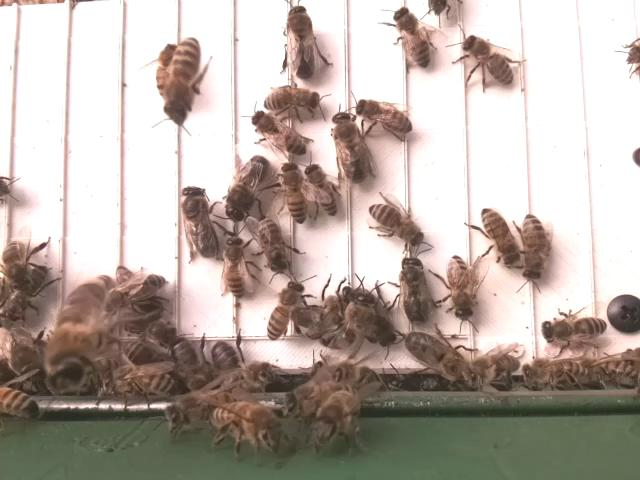Drone: (403, 330, 480, 385), (178, 183, 222, 262), (223, 154, 272, 224), (330, 110, 371, 186), (398, 255, 433, 329), (285, 3, 317, 80)
Worker: (166, 35, 201, 118), (462, 34, 516, 86), (251, 110, 312, 156), (366, 201, 423, 247), (351, 96, 416, 136), (391, 6, 429, 70), (480, 205, 519, 267), (264, 283, 303, 343), (445, 252, 476, 321), (220, 233, 251, 300), (519, 211, 548, 282), (305, 163, 341, 218), (108, 367, 178, 395), (258, 217, 290, 276), (280, 160, 309, 225), (540, 316, 608, 343), (263, 84, 320, 114)
